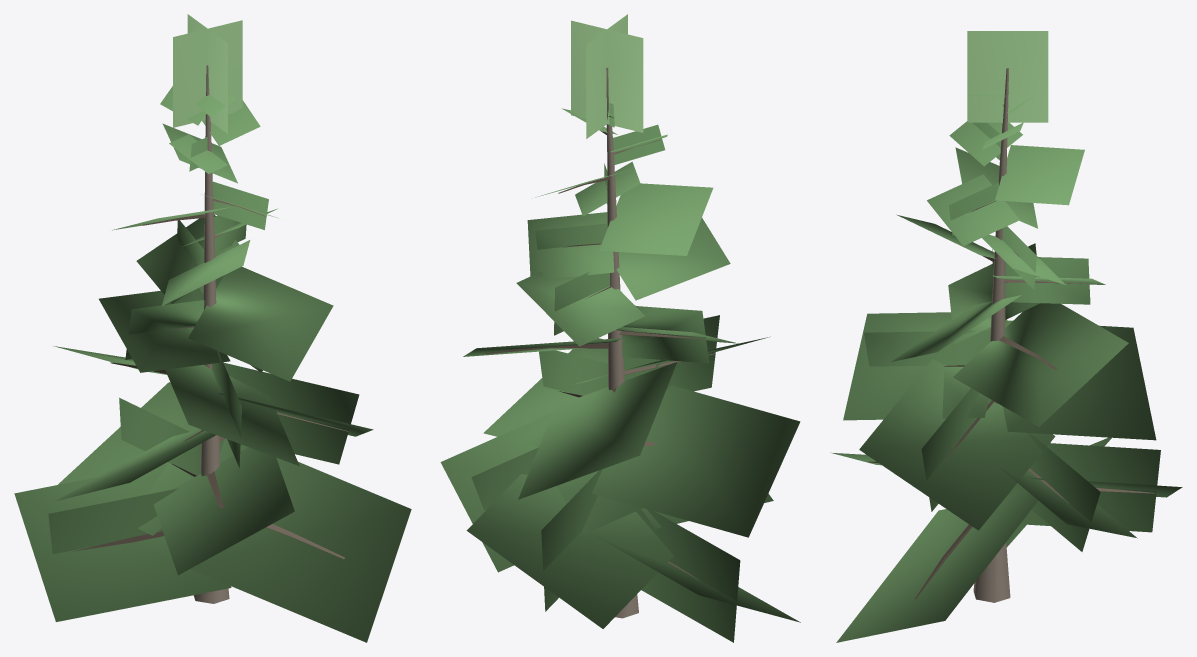
File: tree_fir_a_lod1.glb
3 renders of one model, left to right at view 1: azimuth 30°, elevation 25°; view 2: azimuth 150°, elevation 25°; view 3: azimuth 270°, elevation 25°, orthographic. The views are drawn at different scales.
Visible parts, largest first — view 1: tree_fir_a_lod1; view 2: tree_fir_a_lod1; view 3: tree_fir_a_lod1.
Boxes of the visible parts, x1=… form: tree_fir_a_lod1: x1=14, y1=14, x2=411, y2=642; tree_fir_a_lod1: x1=440, y1=14, x2=800, y2=642; tree_fir_a_lod1: x1=830, y1=31, x2=1182, y2=642.
Size of the model in its own units: 8.39 by 13.38 by 7.43.
